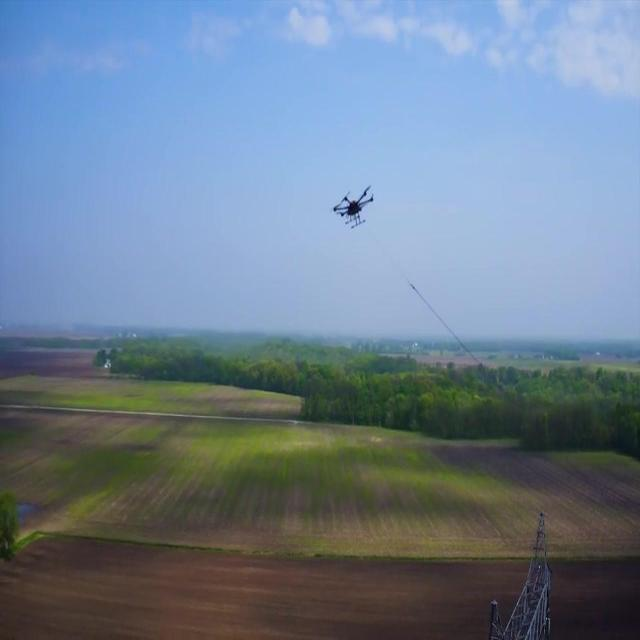drone: (331, 182, 377, 232)
